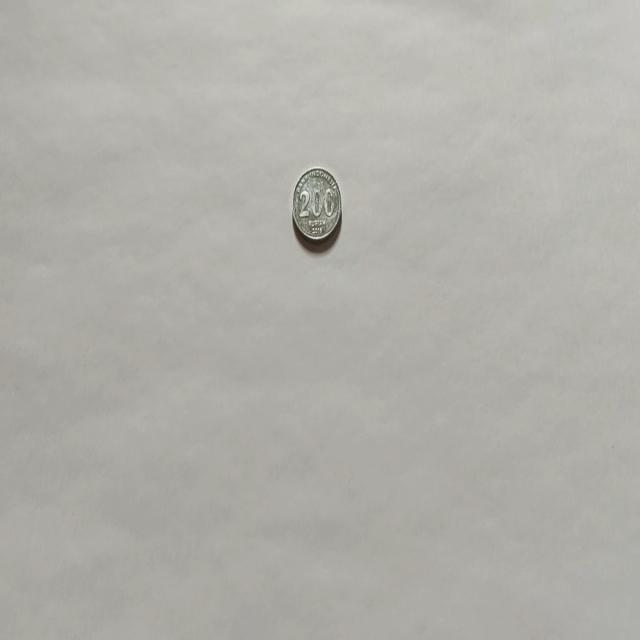dua ratus rupiah: (290, 166, 342, 244)
